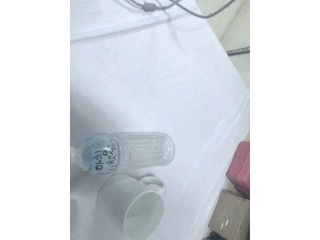bottle: (71, 132, 175, 174)
box: (209, 190, 250, 240)
cup: (96, 173, 166, 240)
